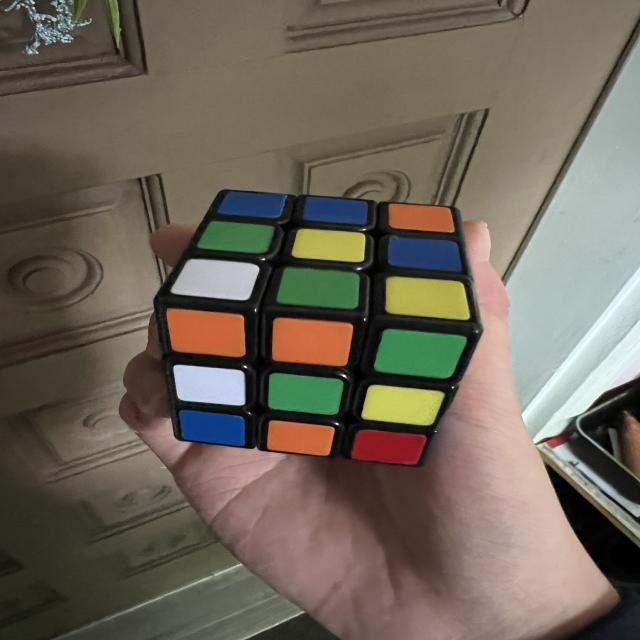blue: (387, 235, 464, 273), (176, 409, 248, 447), (302, 195, 369, 227), (217, 190, 288, 219)
center: (266, 372, 344, 416), (291, 228, 366, 263)
green: (373, 327, 467, 381), (276, 266, 361, 310), (266, 372, 344, 416), (197, 219, 274, 255)
orange: (270, 316, 354, 368), (163, 308, 248, 358), (265, 420, 335, 457), (387, 203, 456, 233)
red: (350, 428, 427, 467)
white: (170, 256, 260, 303), (171, 364, 248, 406)
yellow: (383, 276, 472, 321), (361, 383, 445, 428), (291, 228, 366, 263)
